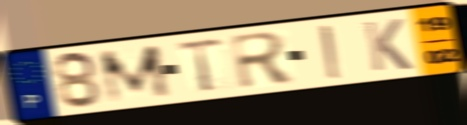8: (52, 49, 103, 111)
I: (317, 23, 346, 81)
K: (361, 16, 415, 73)
M: (96, 42, 175, 106)
R: (227, 29, 299, 92)
T: (176, 35, 226, 95)
